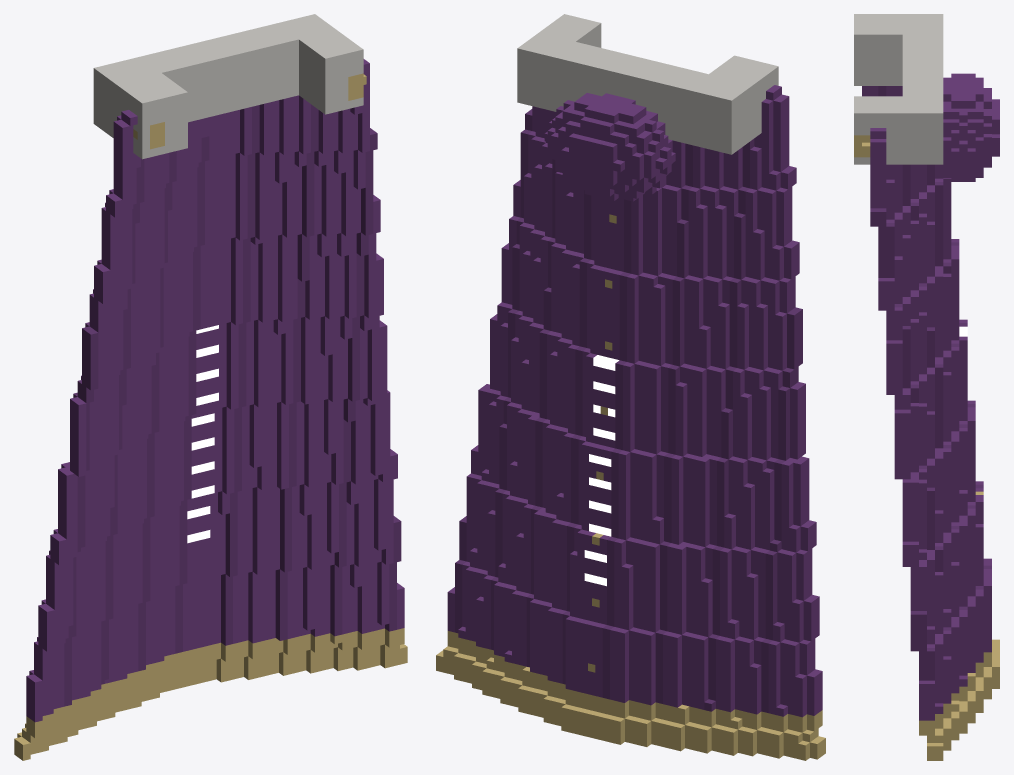
Rendered from leather_legendary_cloak.glb.
The picture shows the model from 3 angles, left to right: view 1: azimuth 30°, elevation 25°; view 2: azimuth 150°, elevation 25°; view 3: azimuth 270°, elevation 25°; orthographic projection. The views are drawn at different scales.
Visible parts, largest first — view 1: leather_legendary_cloak; view 2: leather_legendary_cloak; view 3: leather_legendary_cloak.
Part boxes in pixels (<box>): leather_legendary_cloak: <box>14,14,407,760</box>; leather_legendary_cloak: <box>436,14,825,760</box>; leather_legendary_cloak: <box>854,14,999,760</box>.
Bounding box in the file's own units: 0.612 × 0.996 × 0.216.
